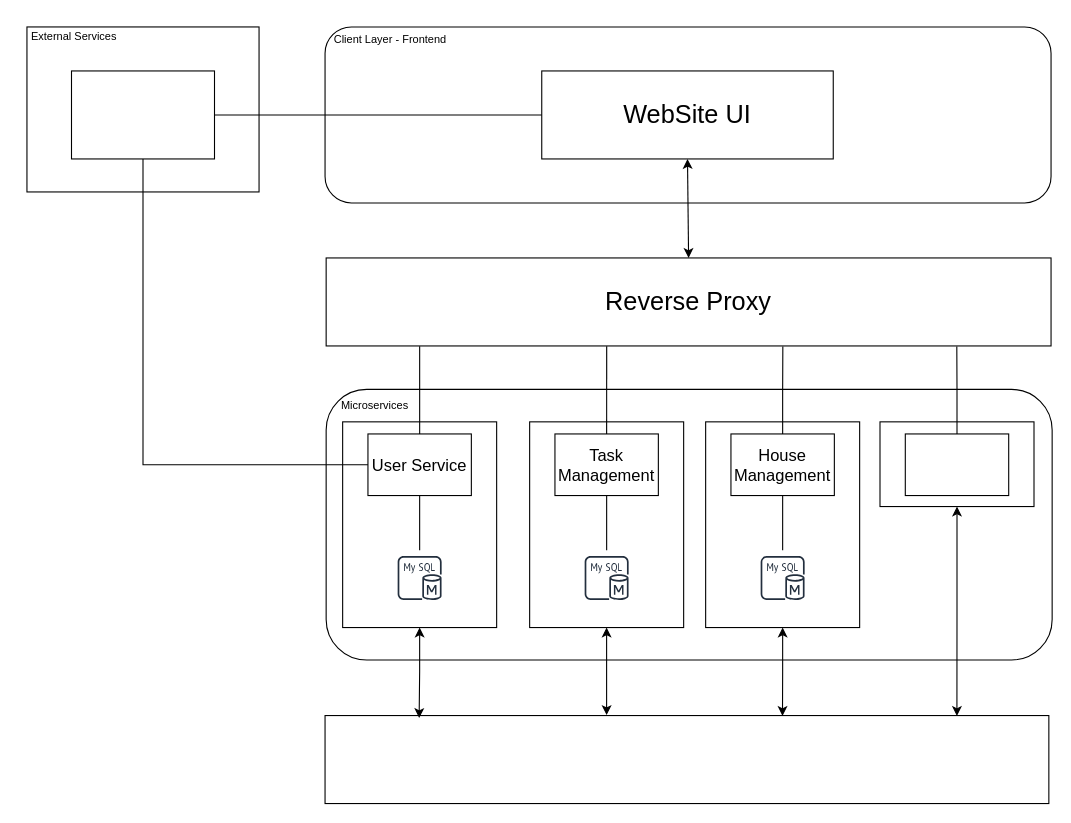
The diagram is 1071 pixels wide and 823 high, and some of its shapes have lost their labels. Each missing label, with the centre of its shape:
"AWS Cognito" belongs at pixel 142 114.
"Message Queue" belongs at pixel 686 759.
"Notification Service" belongs at pixel 956 464.
